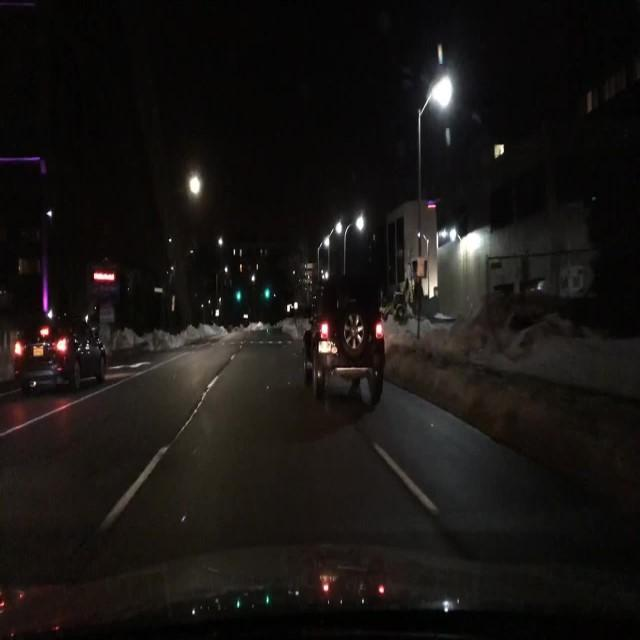normal: (275, 253, 412, 410), (0, 301, 123, 410)
